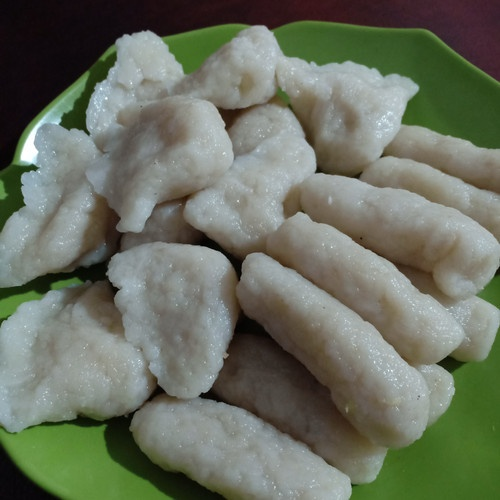pempek: (6, 40, 470, 436)
